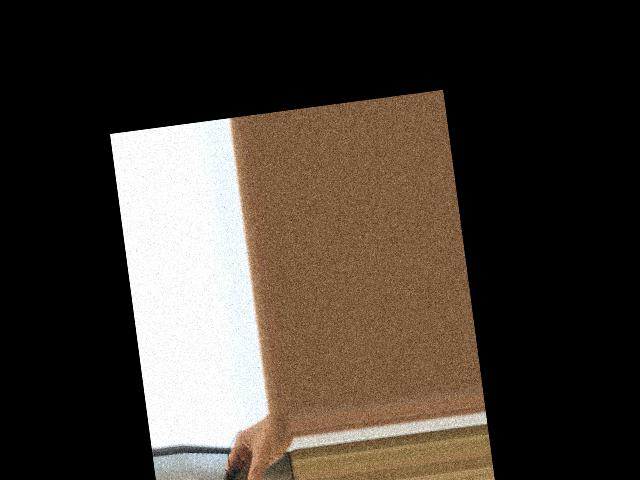beet: (217, 428, 266, 480)
